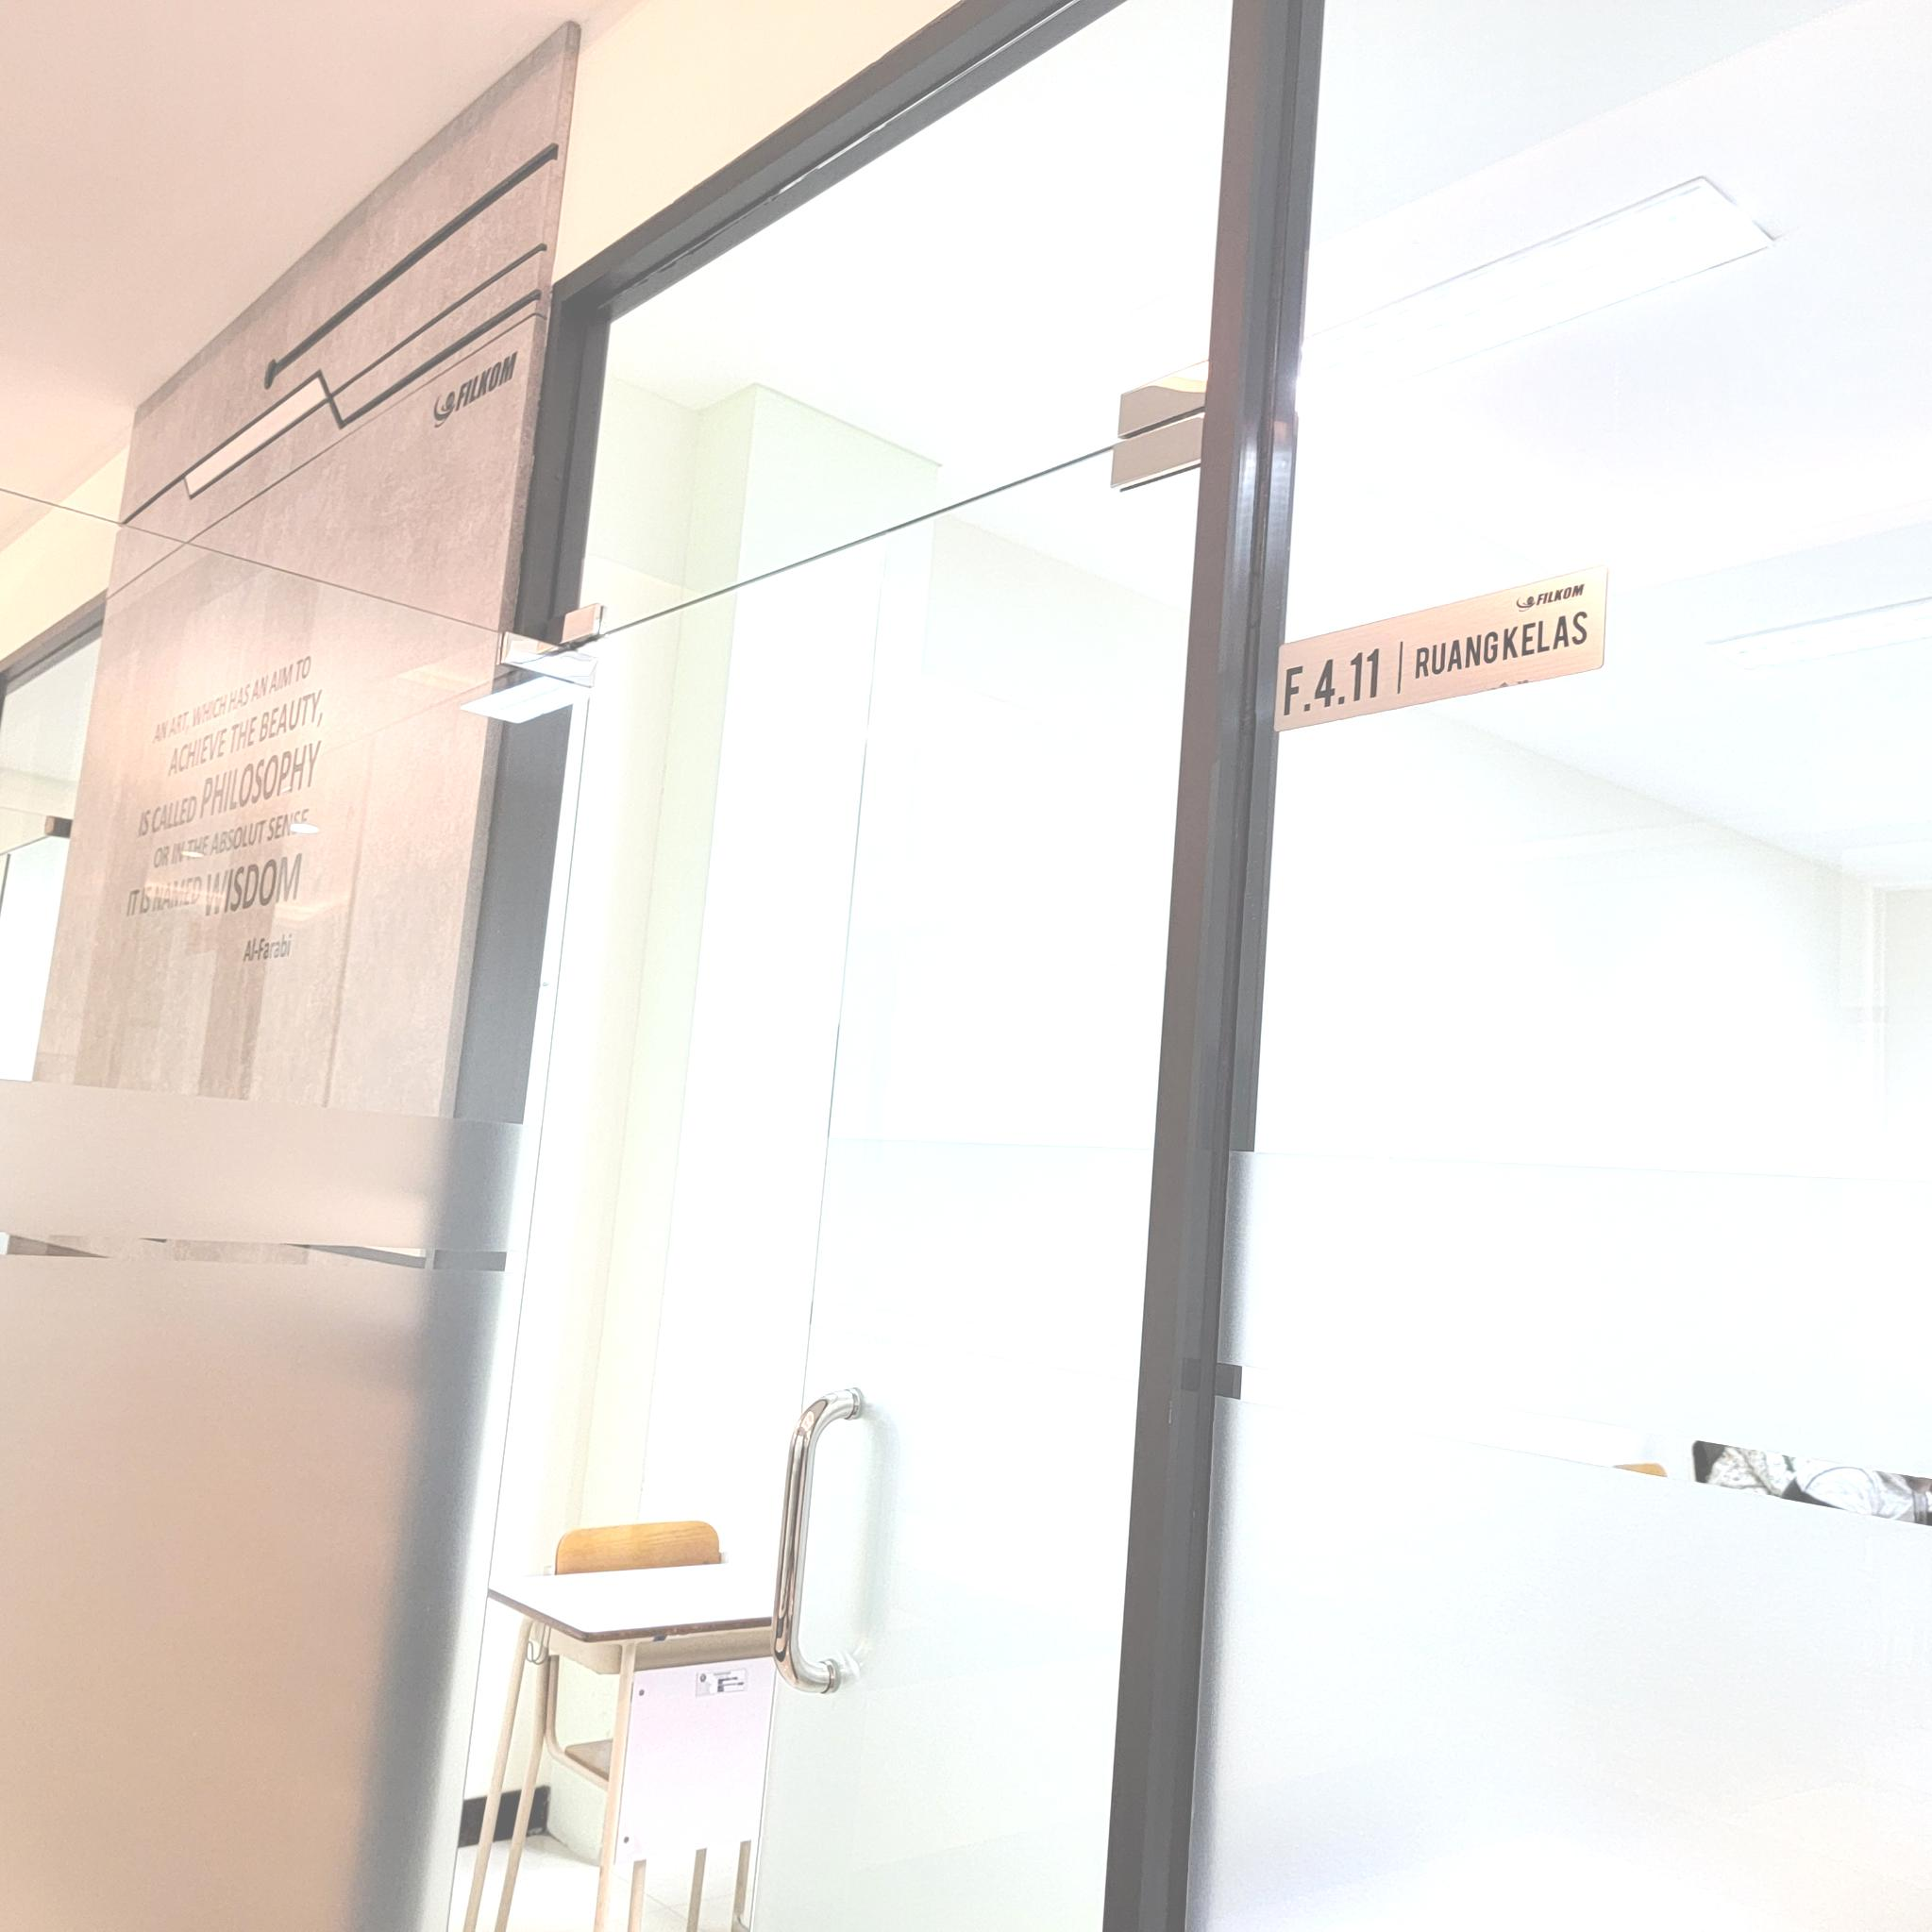plate: (1274, 566, 1612, 732)
